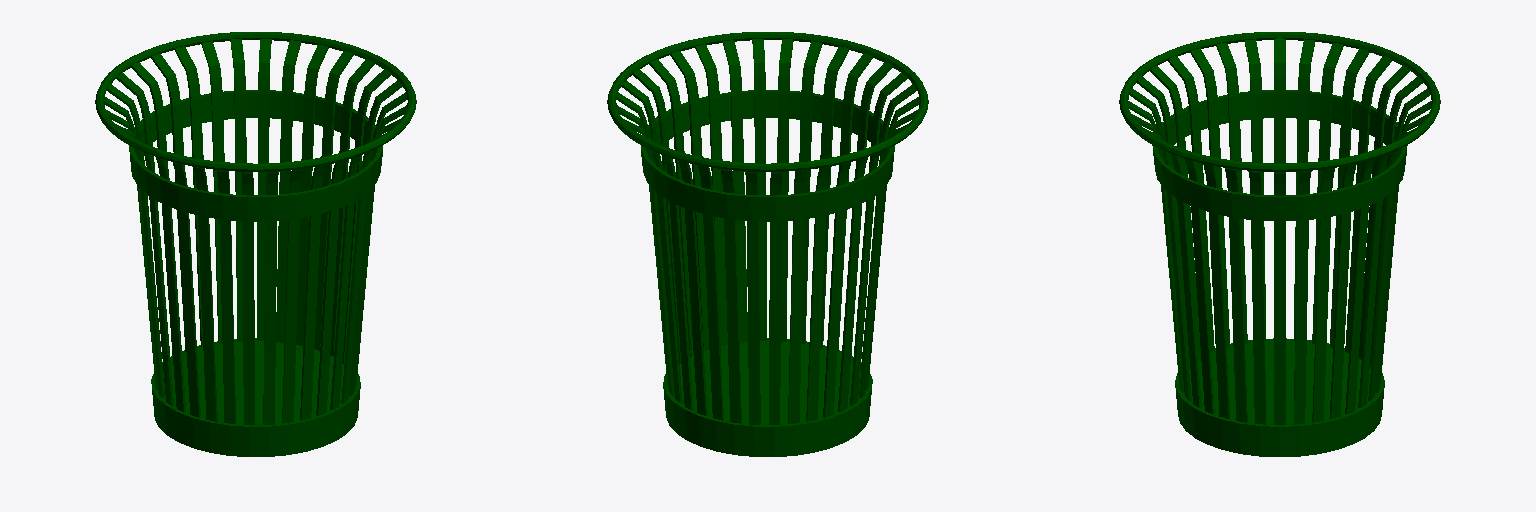
The picture shows the model from 3 angles: view 1: azimuth 30°, elevation 25°; view 2: azimuth 150°, elevation 25°; view 3: azimuth 270°, elevation 25°; orthographic projection.
Parts seen in each view (by area): view 1: trash_can_frame_Trash_can_frame_Green_paint; view 2: trash_can_frame_Trash_can_frame_Green_paint; view 3: trash_can_frame_Trash_can_frame_Green_paint.
Part boxes in pixels (x1,y1,x2,y2): trash_can_frame_Trash_can_frame_Green_paint: (95,32,416,456); trash_can_frame_Trash_can_frame_Green_paint: (607,32,928,456); trash_can_frame_Trash_can_frame_Green_paint: (1119,32,1440,456).
Bounding box in the file's own units: 7.9 × 8.58 × 7.9.